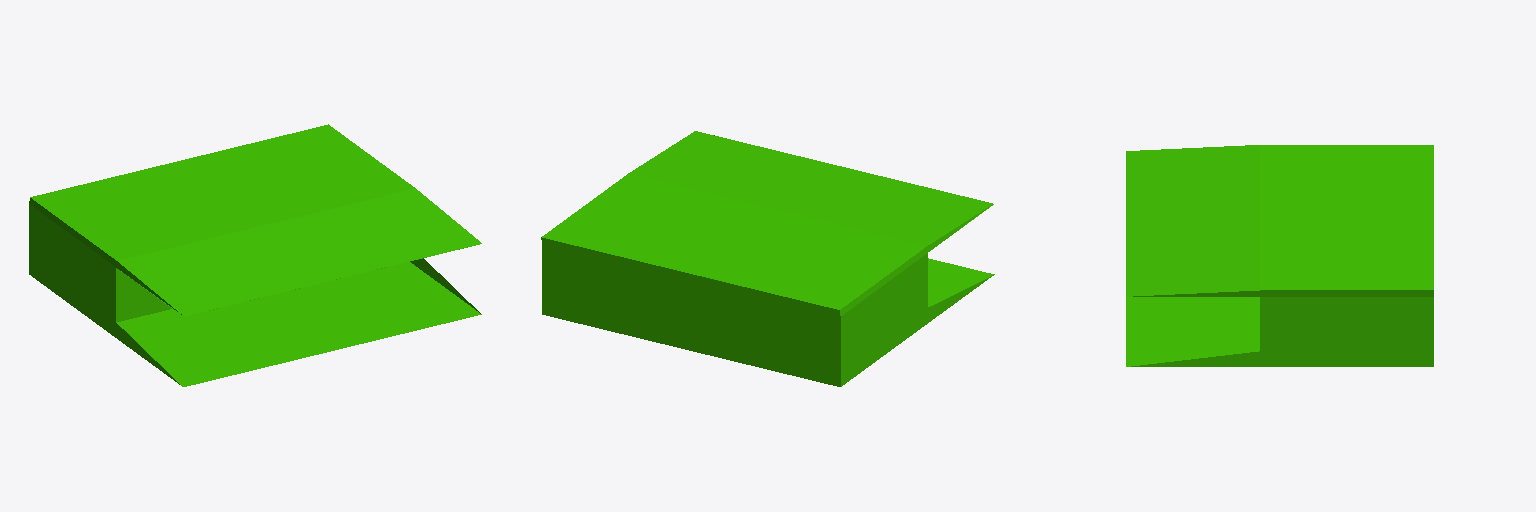
File: top_section.obj
3 renders of one model, left to right at view 1: azimuth 30°, elevation 25°; view 2: azimuth 150°, elevation 25°; view 3: azimuth 270°, elevation 25°, orthographic.
Parts seen in each view (by area): view 1: black_wall.002; view 2: black_wall.002; view 3: black_wall.002.
Boxes of the visible parts, x1=… form: black_wall.002: x1=29, y1=124, x2=481, y2=386; black_wall.002: x1=541, y1=131, x2=994, y2=386; black_wall.002: x1=1126, y1=145, x2=1433, y2=366.
Size of the model in its own units: 39.72 by 9.78 by 35.45.